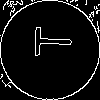T: (25, 25, 72, 58)
